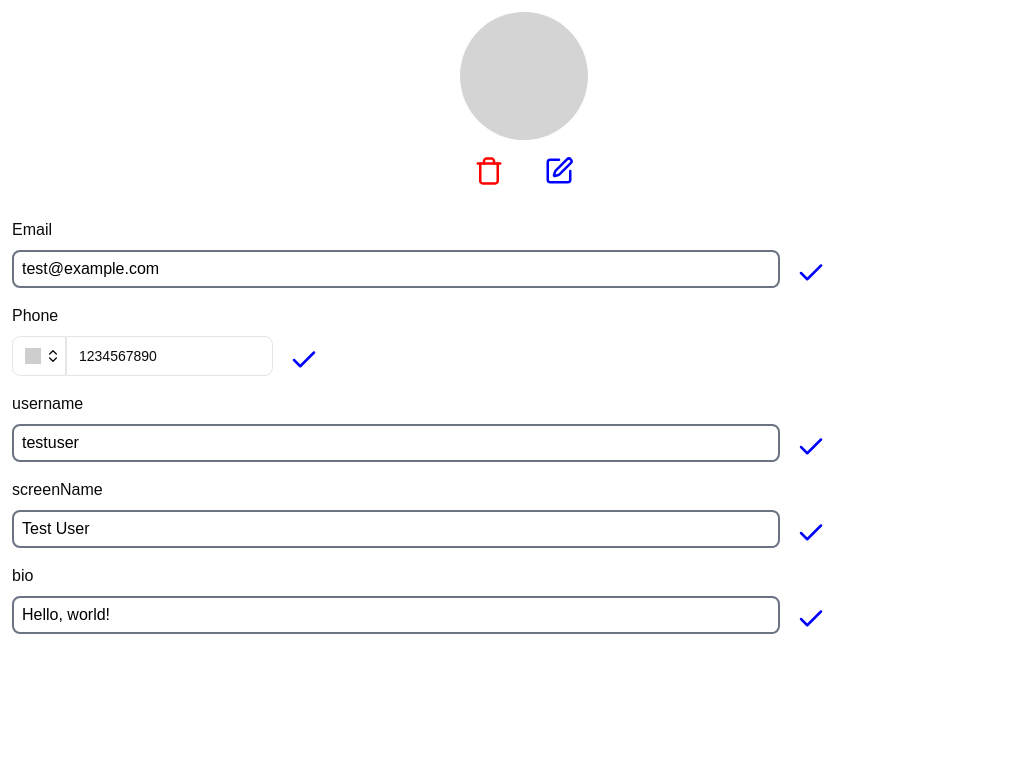
Test: ProfileForm › shows validation error for invalid email
This screenshot has width=1036, height=780.
Replace the text in the field showing "test@example.com" below "Email" with "invalidemail" at (396, 269), box [12, 250, 780, 288]
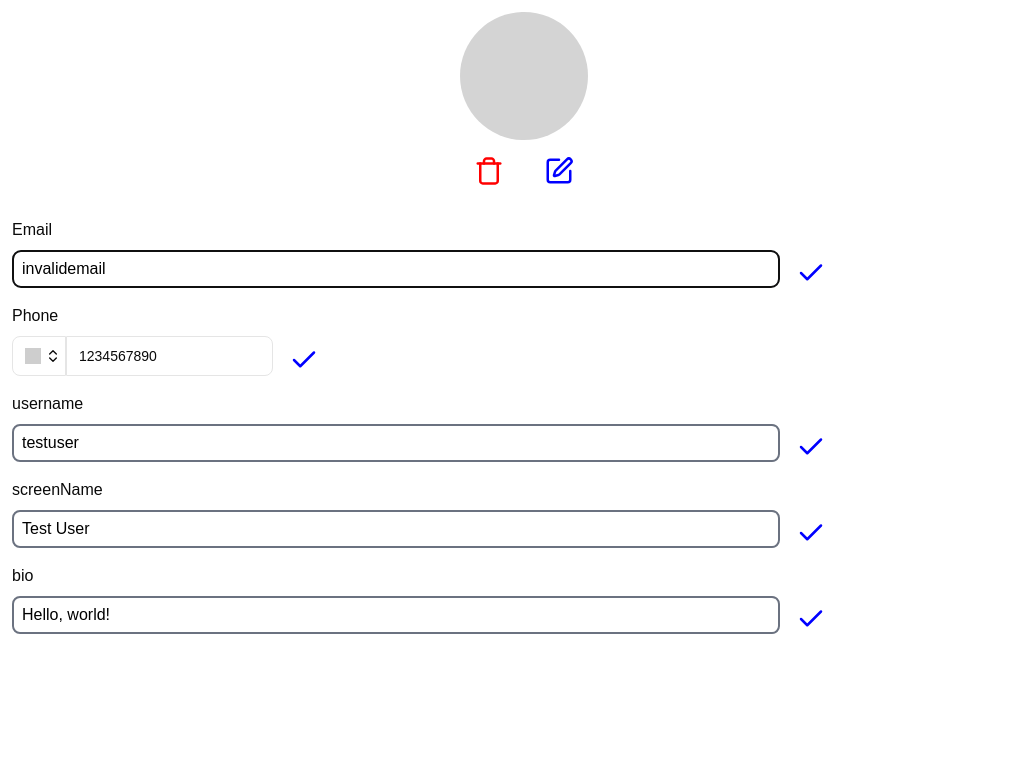
Click the 1st button titled "save" at (811, 273), box [796, 258, 826, 288]
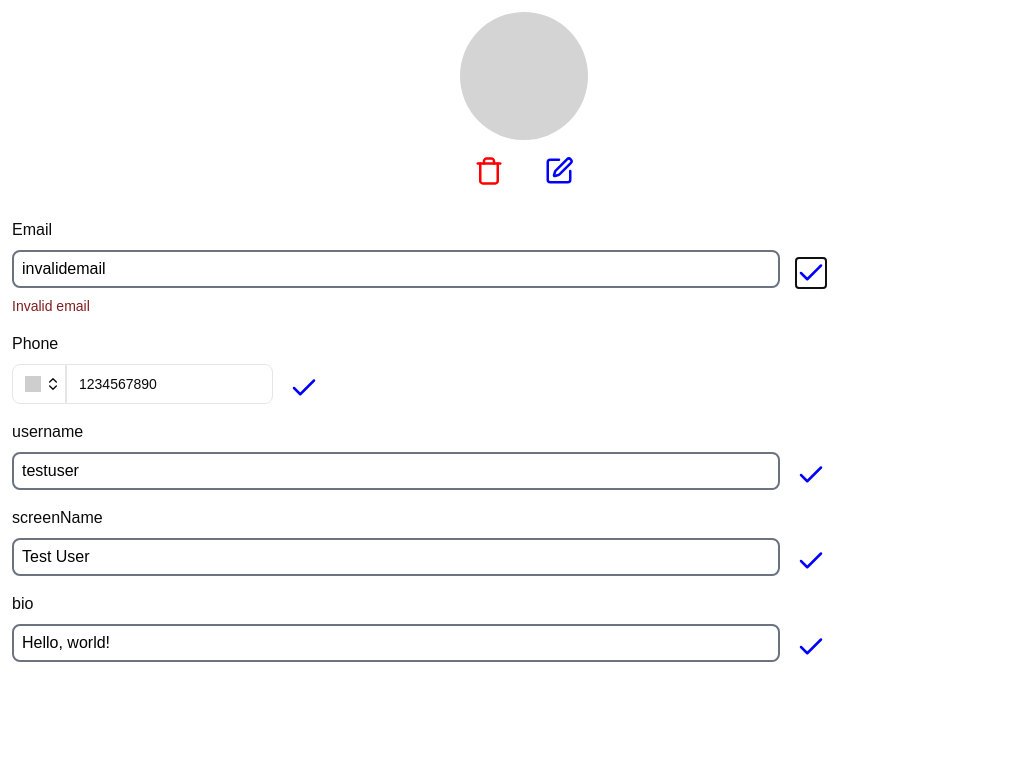
Expected: the text "Invalid email" is shown, [12, 298, 90, 314]
